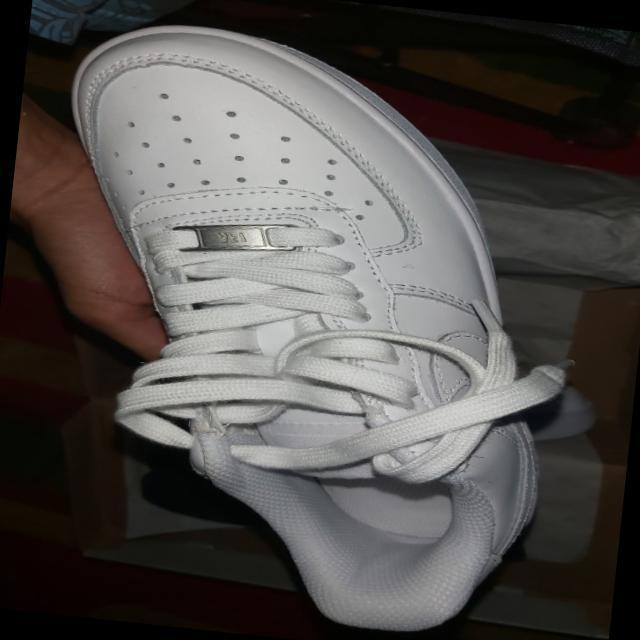nike fake air force: (17, 13, 594, 640)
